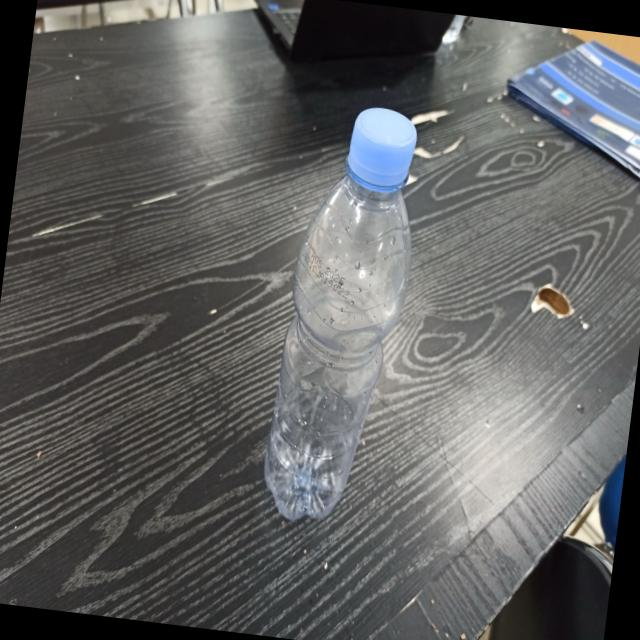BotolPlastik: (256, 96, 430, 531)
